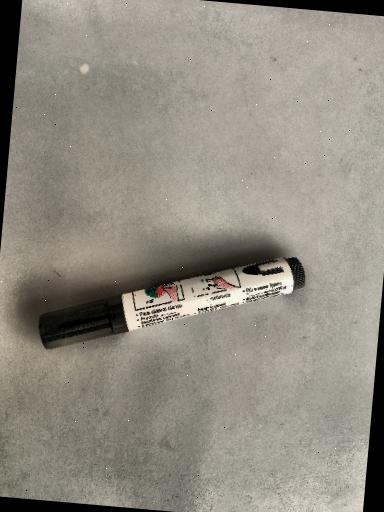marcador negro: (38, 257, 304, 348)
